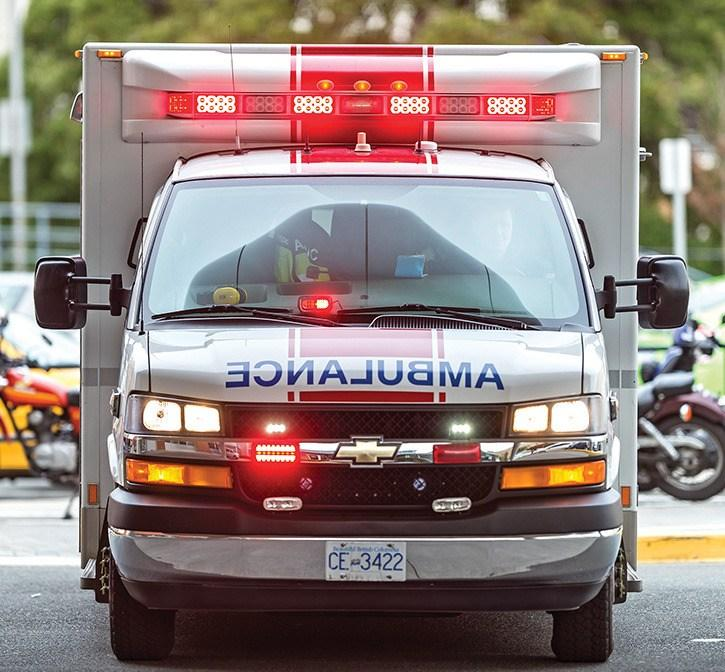ambulance_on: (45, 38, 698, 668)
